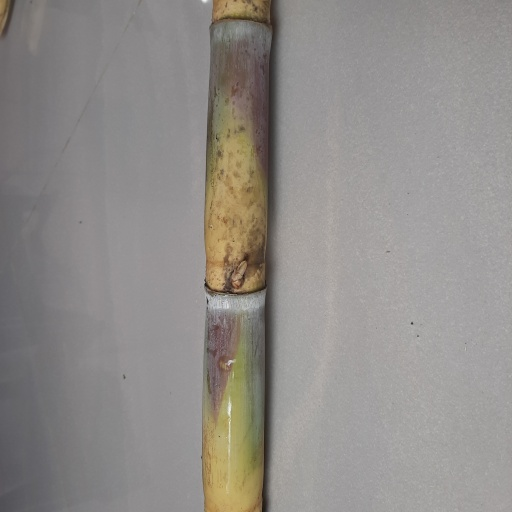Sprouted_Bud: (225, 259, 249, 290)
